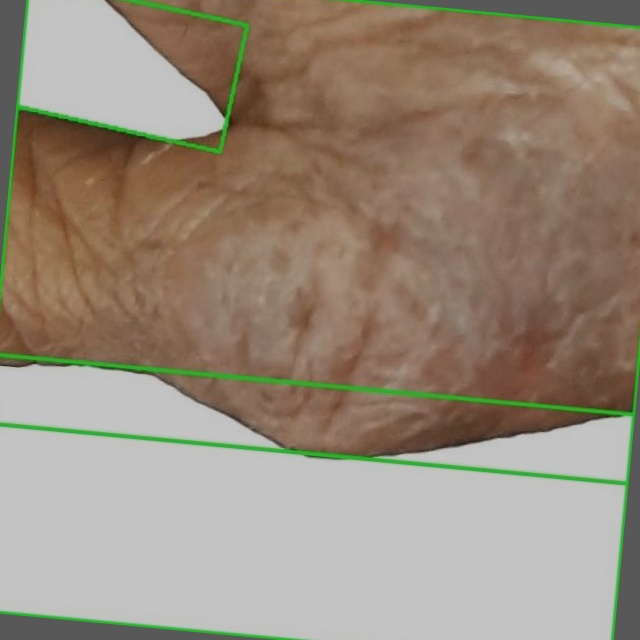Eczema: (0, 0, 639, 483), (0, 354, 634, 639), (16, 0, 249, 152)
